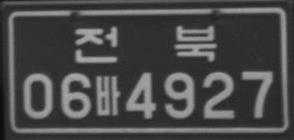0: (22, 72, 54, 120)
2: (202, 70, 235, 120)
4: (125, 72, 156, 118)
6: (60, 72, 92, 119)
7: (241, 70, 274, 119)
9: (162, 71, 195, 118)
바: (95, 75, 121, 116)
전북_D: (74, 24, 218, 63)
